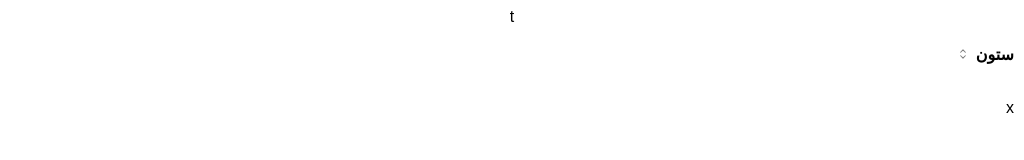
it: table states › sortable header exposes aria-sort and reports the next sort
Later steps or results of the test are not shown.
What coordinates should you click on to do the following:
click the button
I would click on:
 (985, 54)
Its box is left=956, top=44, right=1014, bottom=64.
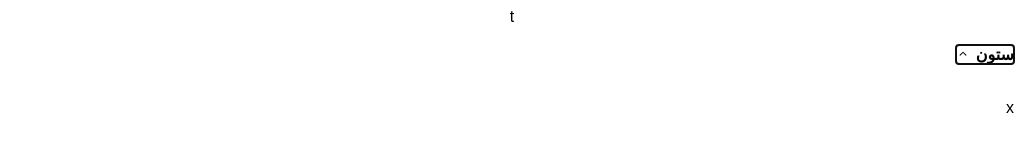
Result: the column heading "ستون" has attribute aria-sort="ascending" at left=10, top=28, right=1014, bottom=80
